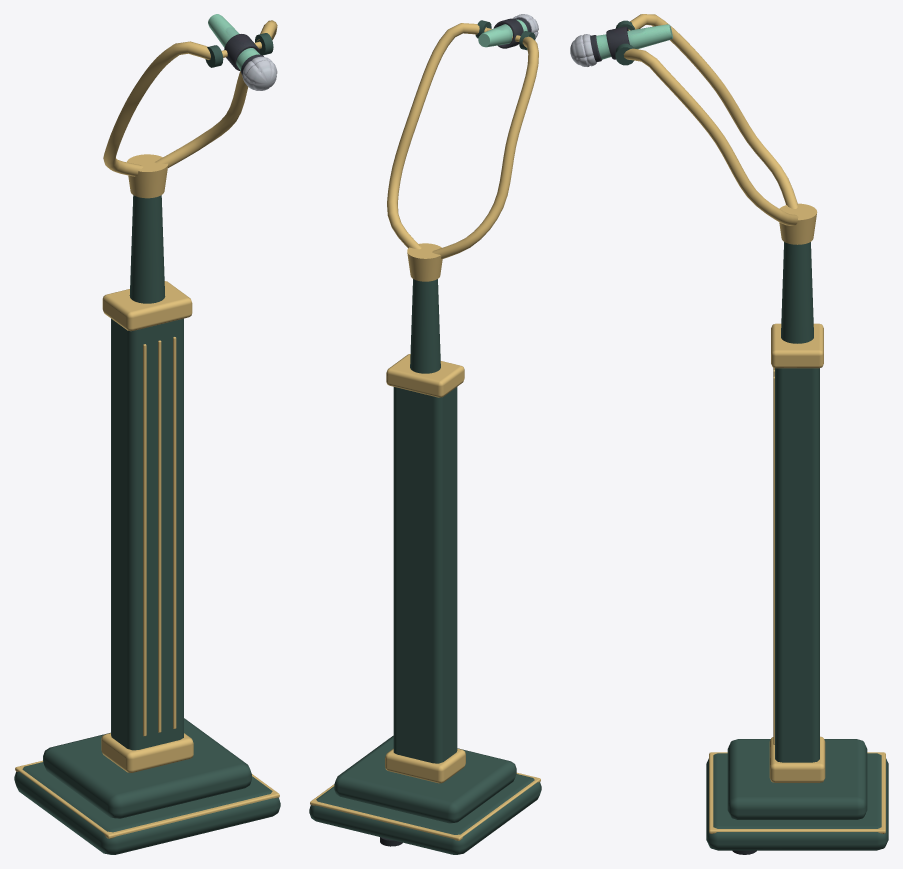
3 views of the same model, side by side, from view 1: azimuth 30°, elevation 25°; view 2: azimuth 150°, elevation 25°; view 3: azimuth 270°, elevation 25° (orthographic). The views are drawn at different scales.
Visible parts, largest first — view 1: fluted-column, stepped-plinth, column-trim, broadcast-yoke, plinth-band, harp-socket, singing-mic-pickup, singing-mic-handle, singing-mic-clip, side-pivots; view 2: fluted-column, stepped-plinth, broadcast-yoke, column-trim, plinth-band, harp-socket, singing-mic-handle; view 3: fluted-column, stepped-plinth, broadcast-yoke, column-trim, plinth-band, harp-socket, singing-mic-handle, singing-mic-pickup.
Part boxes in pixels (<box>): fluted-column: <box>111,195,183,750</box>; stepped-plinth: <box>14,718,280,854</box>; column-trim: <box>101,281,193,772</box>; broadcast-yoke: <box>103,20,277,176</box>; plinth-band: <box>15,760,279,838</box>; harp-socket: <box>127,154,168,198</box>; singing-mic-pickup: <box>242,56,277,90</box>; singing-mic-handle: <box>208,14,259,70</box>; singing-mic-clip: <box>224,34,259,71</box>; side-pivots: <box>205,33,273,67</box>; fluted-column: <box>393,279,457,763</box>; stepped-plinth: <box>309,735,541,854</box>; broadcast-yoke: <box>387,23,538,259</box>; column-trim: <box>385,354,465,783</box>; plinth-band: <box>310,772,540,840</box>; harp-socket: <box>407,243,442,281</box>; singing-mic-handle: <box>478,19,527,47</box>; fluted-column: <box>775,242,819,762</box>; stepped-plinth: <box>706,739,888,850</box>; broadcast-yoke: <box>623,14,798,225</box>; column-trim: <box>769,323,825,782</box>; plinth-band: <box>709,752,885,833</box>; harp-socket: <box>779,203,817,244</box>; singing-mic-handle: <box>596,24,672,59</box>; singing-mic-pickup: <box>570,34,596,66</box>.
Bounding box in the file's own units: 0.363 × 1.64 × 0.5968.
4 materials, 1 textured.
